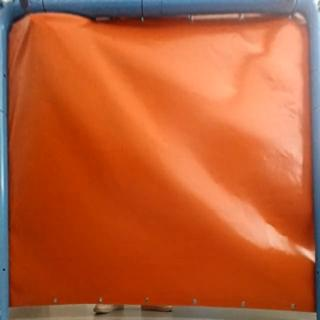Hit-hRxx: (27, 14, 37, 24)
